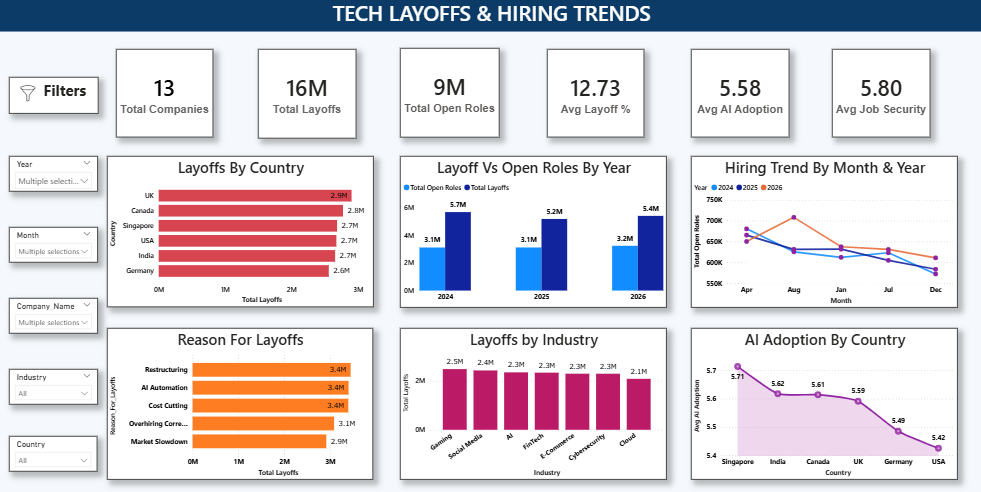

The page's visual inventory and layout, read from the dashboard file:
{"tool":"powerbi","page":{"name":"Page 1","canvas":[1780,900],"ordinal":0},"visuals":[{"type":"textbox","box":[0,0,1780.4,64.3],"z":0},{"type":"card","fields":{"Values":["Tech Layoffs & Hiring.Total Companies"]},"box":[208.9,94.6,175,158.9],"z":1000},{"type":"card","fields":{"Values":["Tech Layoffs & Hiring.Total Layoffs"]},"box":[464.3,94.6,176.8,160.7],"z":2000},{"type":"card","fields":{"Values":["Tech Layoffs & Hiring.Total Open Roles"]},"box":[719.6,92.9,178.6,160.7],"z":3000},{"type":"card","fields":{"Values":["Tech Layoffs & Hiring.Average Layoffs"]},"box":[983.9,94.6,175,158.9],"z":4000},{"type":"card","fields":{"Values":["Tech Layoffs & Hiring.Avg AI Adoption"]},"box":[1244.6,94.6,176.8,158.9],"z":5000},{"type":"card","fields":{"Values":["Tech Layoffs & Hiring.Avg Job Security"]},"box":[1498.2,94.6,176.8,158.9],"z":6000},{"type":"clusteredBarChart","title":" Layoffs By Country","fields":{"Y":["Tech Layoffs & Hiring.Total Layoffs"],"Category":["Tech Layoffs & Hiring.Country"]},"box":[192,288,480,272],"z":7000},{"type":"clusteredColumnChart","title":"Layoff Vs Open Roles By Year","fields":{"Y":["Tech Layoffs & Hiring.Total Open Roles","Tech Layoffs & Hiring.Total Layoffs"],"Category":["Tech Layoffs & Hiring.Year"]},"box":[719.6,287.5,480.4,273.2],"z":8000},{"type":"lineChart","title":"Hiring Trend By Month & Year","fields":{"Category":["Tech Layoffs & Hiring.Month"],"Y":["Tech Layoffs & Hiring.Total Open Roles"],"Series":["Tech Layoffs & Hiring.Year"]},"box":[1244.6,287.5,480.4,273.2],"z":9000},{"type":"clusteredBarChart","title":"Reason For Layoffs","fields":{"Category":["Tech Layoffs & Hiring.Reason_For_Layoffs"],"Y":["Tech Layoffs & Hiring.Total Layoffs"]},"box":[192.9,598.2,478.6,273.2],"z":10000},{"type":"clusteredColumnChart","title":" Layoffs by Industry","fields":{"Category":["Tech Layoffs & Hiring.Industry"],"Y":["Tech Layoffs & Hiring.Total Layoffs"]},"box":[719.6,598.2,480.4,273.2],"z":11000},{"type":"areaChart","title":"AI Adoption By Country","fields":{"Category":["Tech Layoffs & Hiring.Country"],"Y":["Tech Layoffs & Hiring.Avg AI Adoption"]},"box":[1244.6,598.2,480.4,273.2],"z":12000},{"type":"slicer","fields":{"Values":["Tech Layoffs & Hiring.Year"]},"box":[16,288,160,64],"z":13000},{"type":"slicer","fields":{"Values":["Tech Layoffs & Hiring.Month"]},"box":[16,416,160,64],"z":14000},{"type":"slicer","fields":{"Values":["Tech Layoffs & Hiring.Company_Name"]},"box":[16,544,160,64],"z":15000},{"type":"slicer","fields":{"Values":["Tech Layoffs & Hiring.Industry"]},"box":[16,672,160,64],"z":16000},{"type":"slicer","fields":{"Values":["Tech Layoffs & Hiring.Country"]},"box":[16.5,792.1,159.1,64],"z":17000},{"type":"textbox","box":[16.1,146.4,160.7,66.1],"z":18000},{"type":"image","box":[16.1,150,67.9,48.2],"z":19000}]}

Visuals, with their boxes in screenshot pixels (x1, y1, x2, y2), scaled from the page's 1780x900 canvas onto the 981x492 screenshot:
textbox: [0, 0, 980, 35]
card - Tech Layoffs & Hiring.Total Companies: [115, 52, 212, 139]
card - Tech Layoffs & Hiring.Total Layoffs: [256, 52, 353, 140]
card - Tech Layoffs & Hiring.Total Open Roles: [397, 51, 495, 139]
card - Tech Layoffs & Hiring.Average Layoffs: [542, 52, 639, 139]
card - Tech Layoffs & Hiring.Avg AI Adoption: [686, 52, 783, 139]
card - Tech Layoffs & Hiring.Avg Job Security: [826, 52, 923, 139]
" Layoffs By Country" clusteredBarChart: [106, 157, 370, 306]
"Layoff Vs Open Roles By Year" clusteredColumnChart: [397, 157, 661, 307]
"Hiring Trend By Month & Year" lineChart: [686, 157, 951, 307]
"Reason For Layoffs" clusteredBarChart: [106, 327, 370, 476]
" Layoffs by Industry" clusteredColumnChart: [397, 327, 661, 476]
"AI Adoption By Country" areaChart: [686, 327, 951, 476]
slicer - Tech Layoffs & Hiring.Year: [9, 157, 97, 192]
slicer - Tech Layoffs & Hiring.Month: [9, 227, 97, 262]
slicer - Tech Layoffs & Hiring.Company_Name: [9, 297, 97, 332]
slicer - Tech Layoffs & Hiring.Industry: [9, 367, 97, 402]
slicer - Tech Layoffs & Hiring.Country: [9, 433, 97, 468]
textbox: [9, 80, 97, 116]
image: [9, 82, 46, 108]
